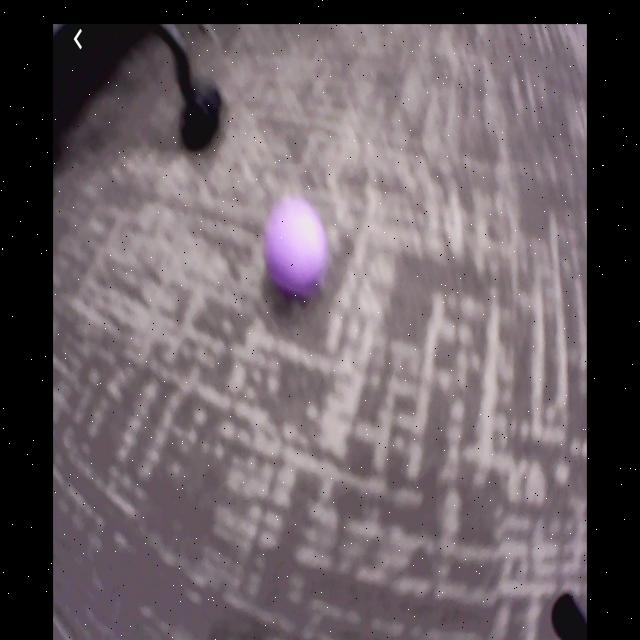ball: (265, 198, 325, 292)
